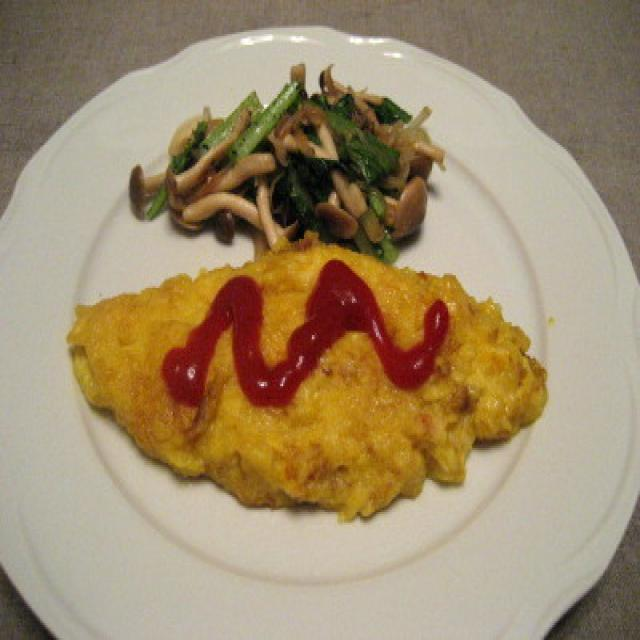Omelet: (70, 244, 552, 503)
